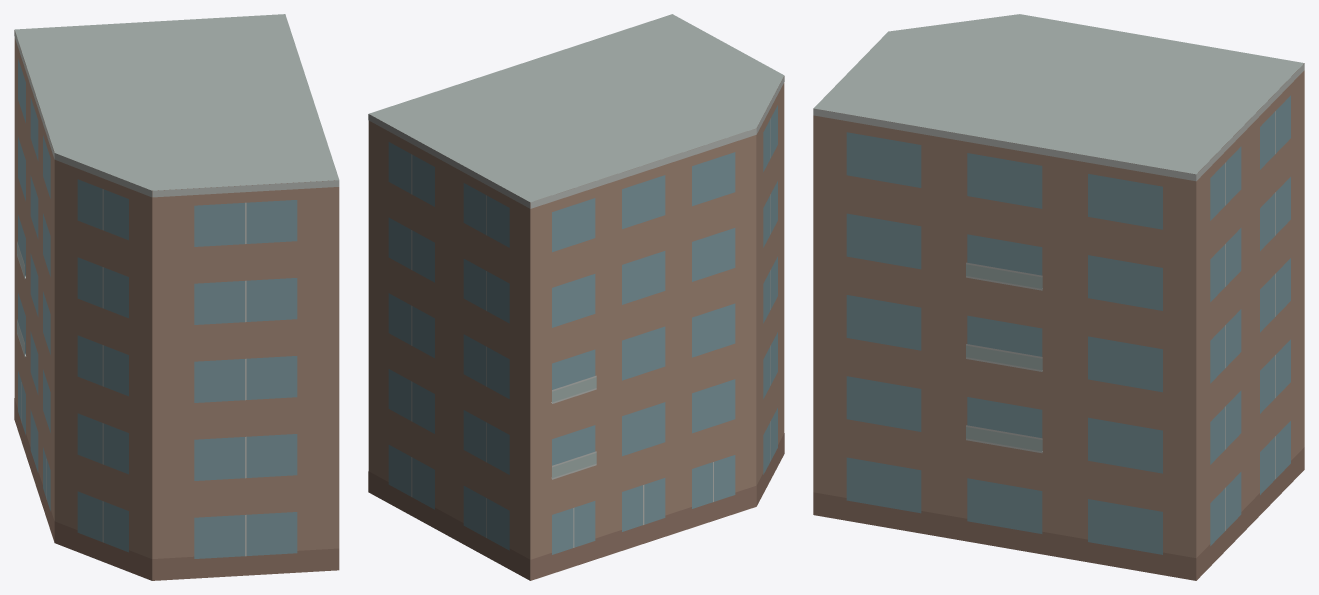
The model's file is survey-upis-32562912.glb.
The picture shows the model from 3 angles, left to right: view 1: azimuth 30°, elevation 25°; view 2: azimuth 150°, elevation 25°; view 3: azimuth 270°, elevation 25°; orthographic projection. The views are drawn at different scales.
Visible parts, largest first — view 1: survey-upis-32562912.tmp; view 2: survey-upis-32562912.tmp; view 3: survey-upis-32562912.tmp.
Part boxes in pixels (x1=…): survey-upis-32562912.tmp: x1=14, y1=14, x2=339, y2=580; survey-upis-32562912.tmp: x1=368, y1=14, x2=784, y2=580; survey-upis-32562912.tmp: x1=813, y1=14, x2=1304, y2=580.
Size of the model in its own units: 12.02 by 14.2 by 15.56.
